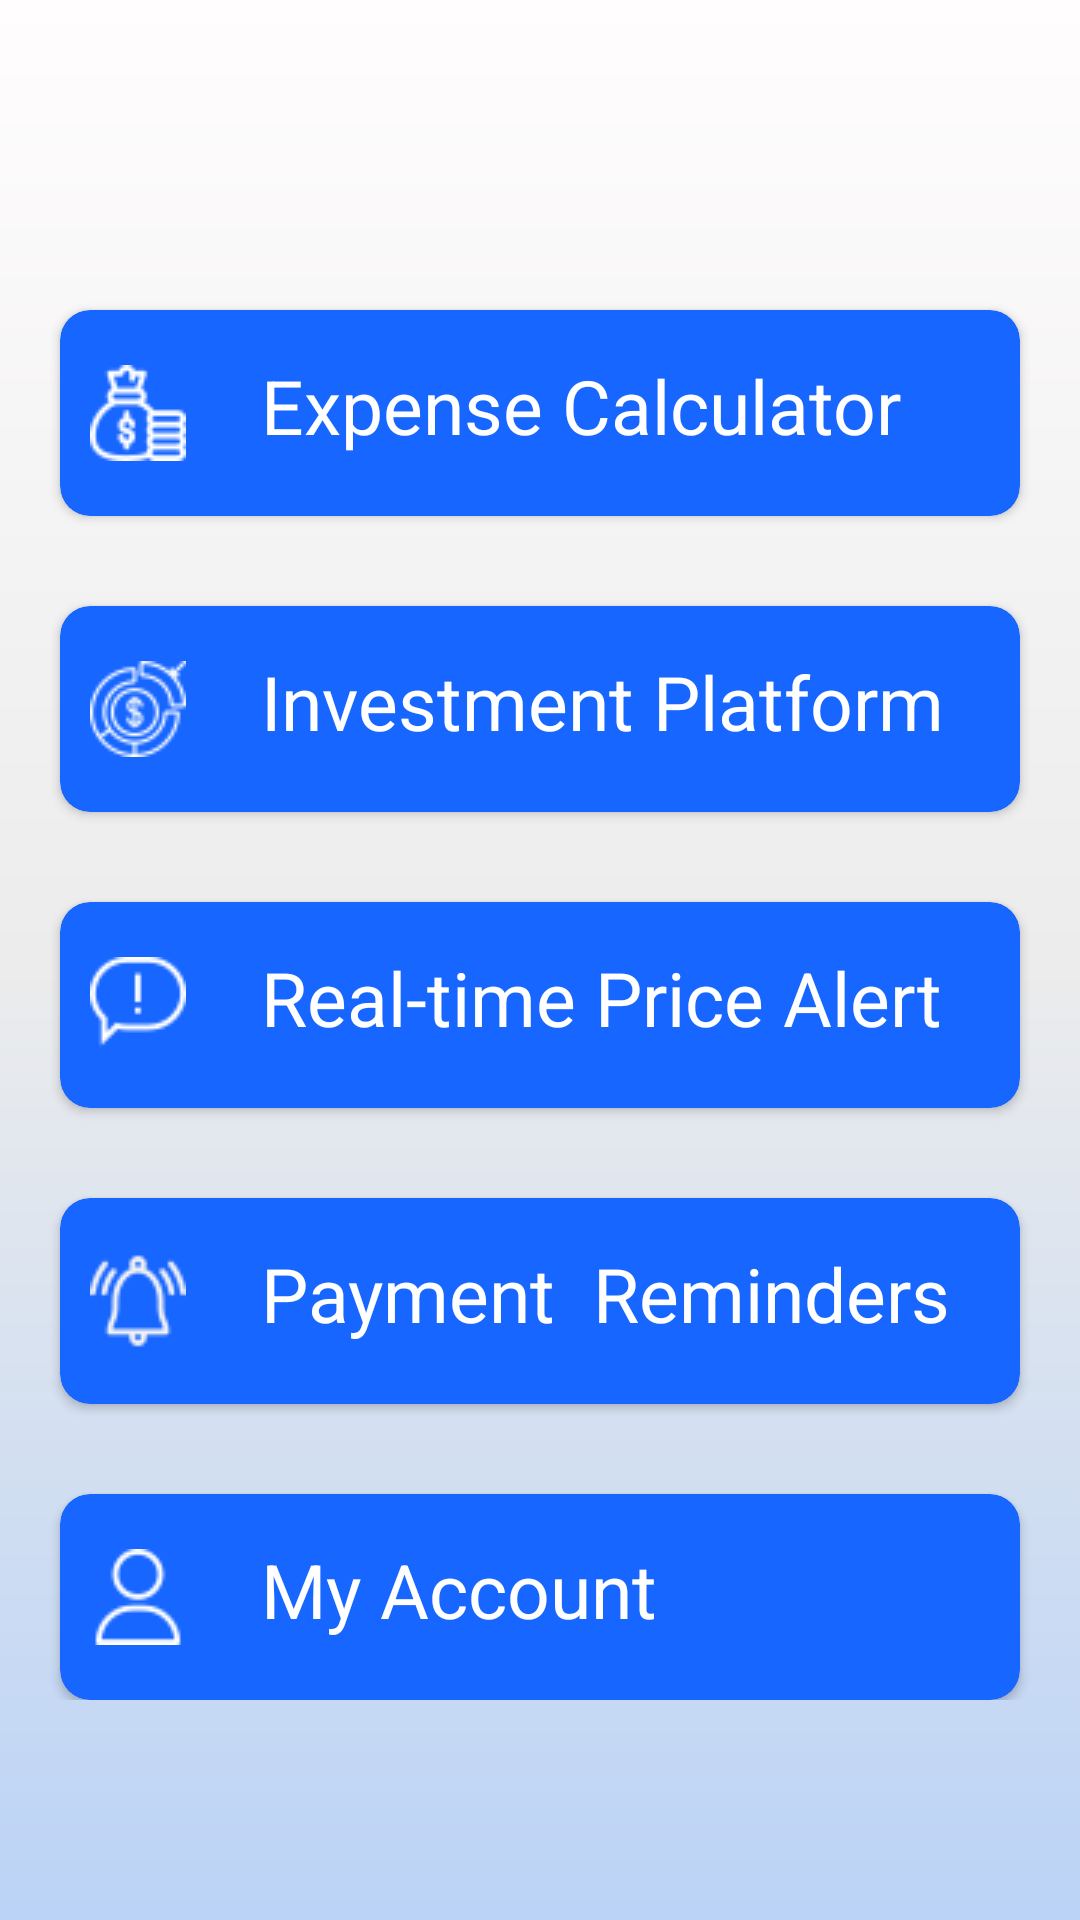

Named icons in this screenshot (1080w x 1920h) and their centers, point (x, y):
money bag: point (138, 413)
notification: point (138, 1301)
user: point (138, 1597)
